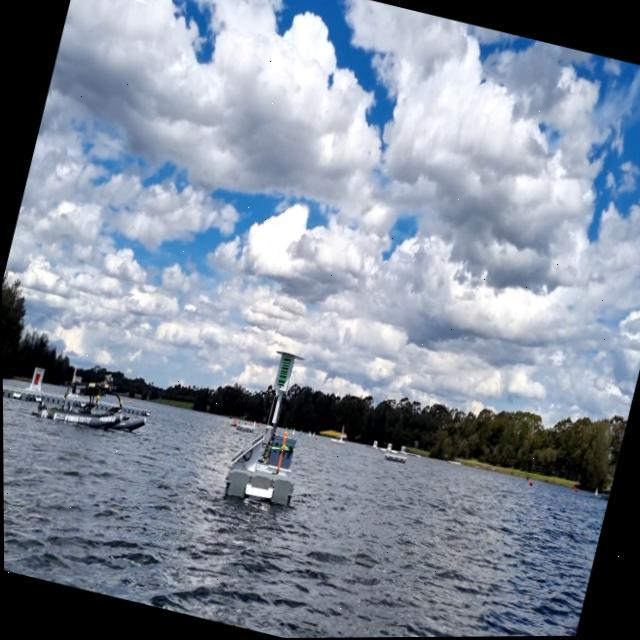led: (274, 355, 292, 390)
